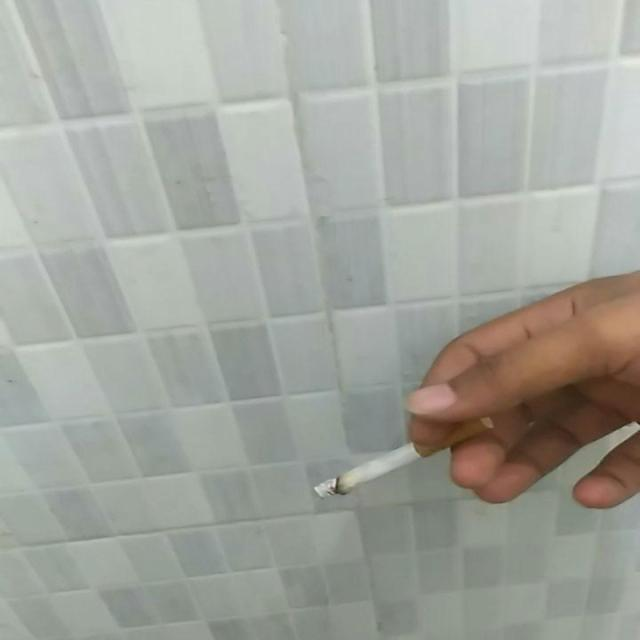Cigarette: (301, 423, 516, 511)
